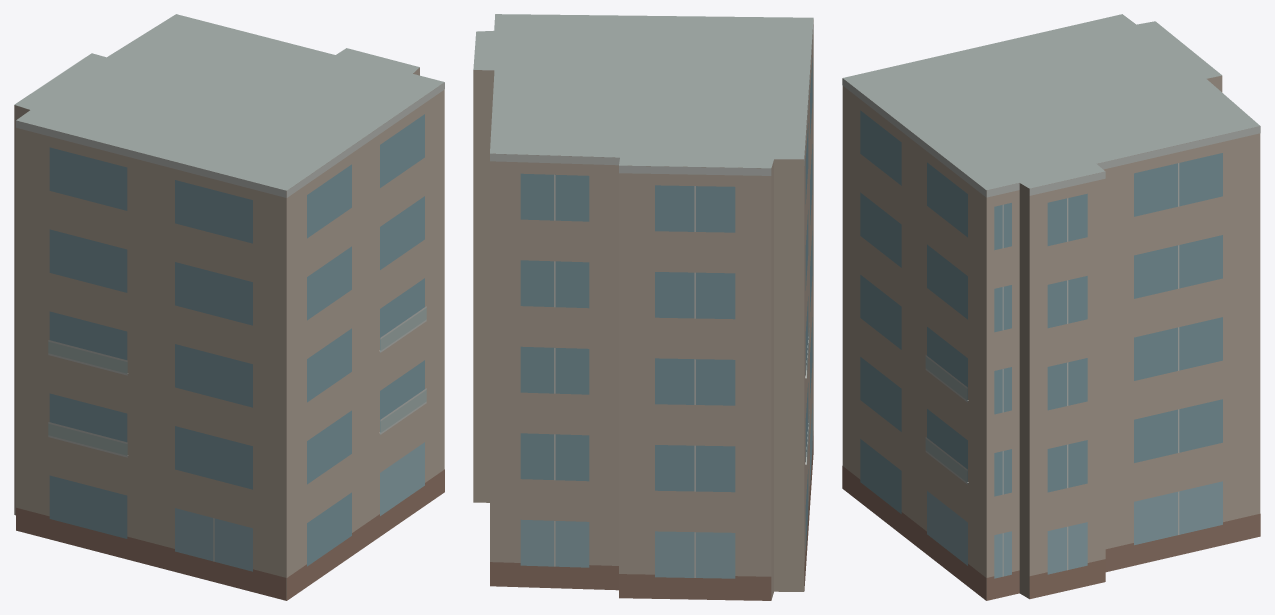
Rendered from survey-upis-32836748.glb.
3 renders of one model, left to right at view 1: azimuth 30°, elevation 25°; view 2: azimuth 150°, elevation 25°; view 3: azimuth 270°, elevation 25°, orthographic. The views are drawn at different scales.
Parts seen in each view (by area): view 1: survey-upis-32836748.tmp; view 2: survey-upis-32836748.tmp; view 3: survey-upis-32836748.tmp.
Boxes of the visible parts, box(x1,y1,x2,y2) form: survey-upis-32836748.tmp: box(14, 14, 444, 600); survey-upis-32836748.tmp: box(473, 14, 813, 600); survey-upis-32836748.tmp: box(842, 14, 1260, 600).
Size of the model in its own units: 12.63 by 13.7 by 12.65.
